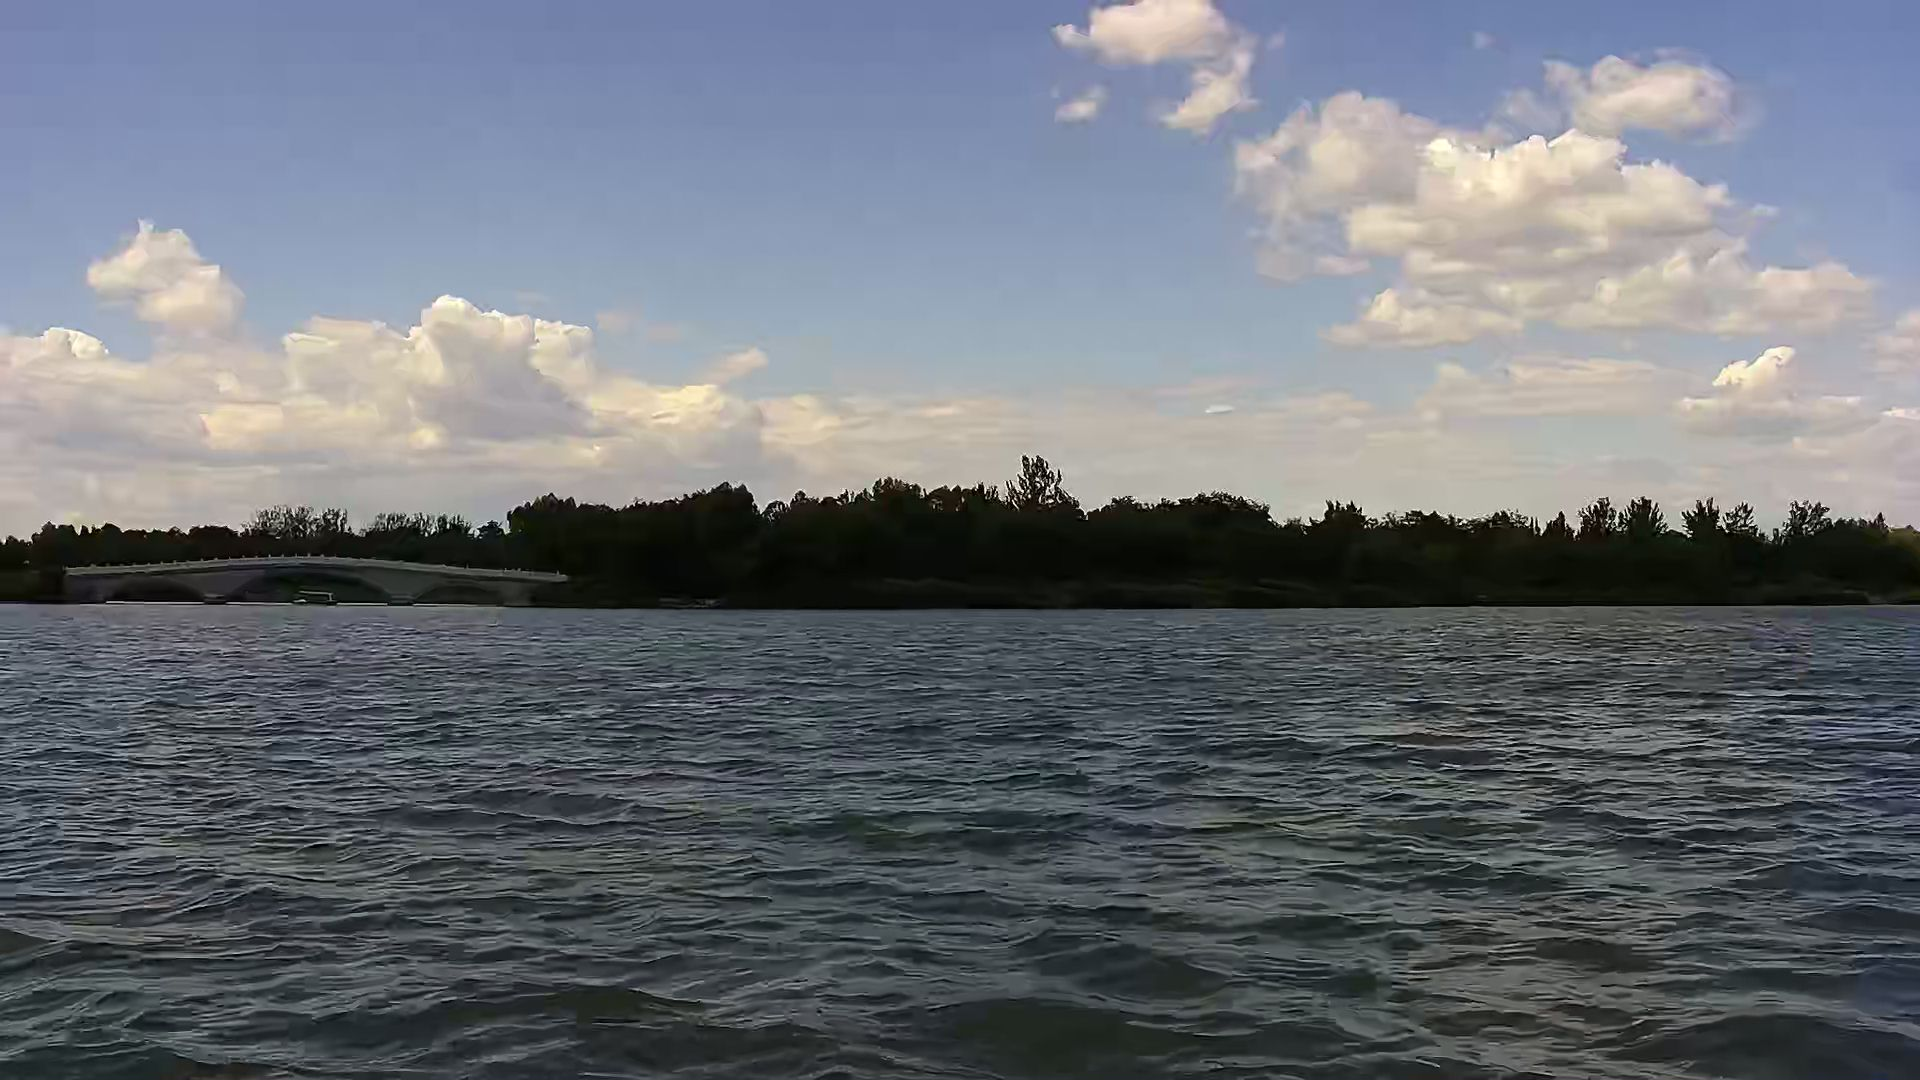boat: (287, 587, 347, 612)
bridge: (61, 550, 574, 608)
